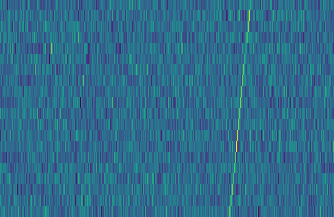signal: (226, 0, 257, 217)
